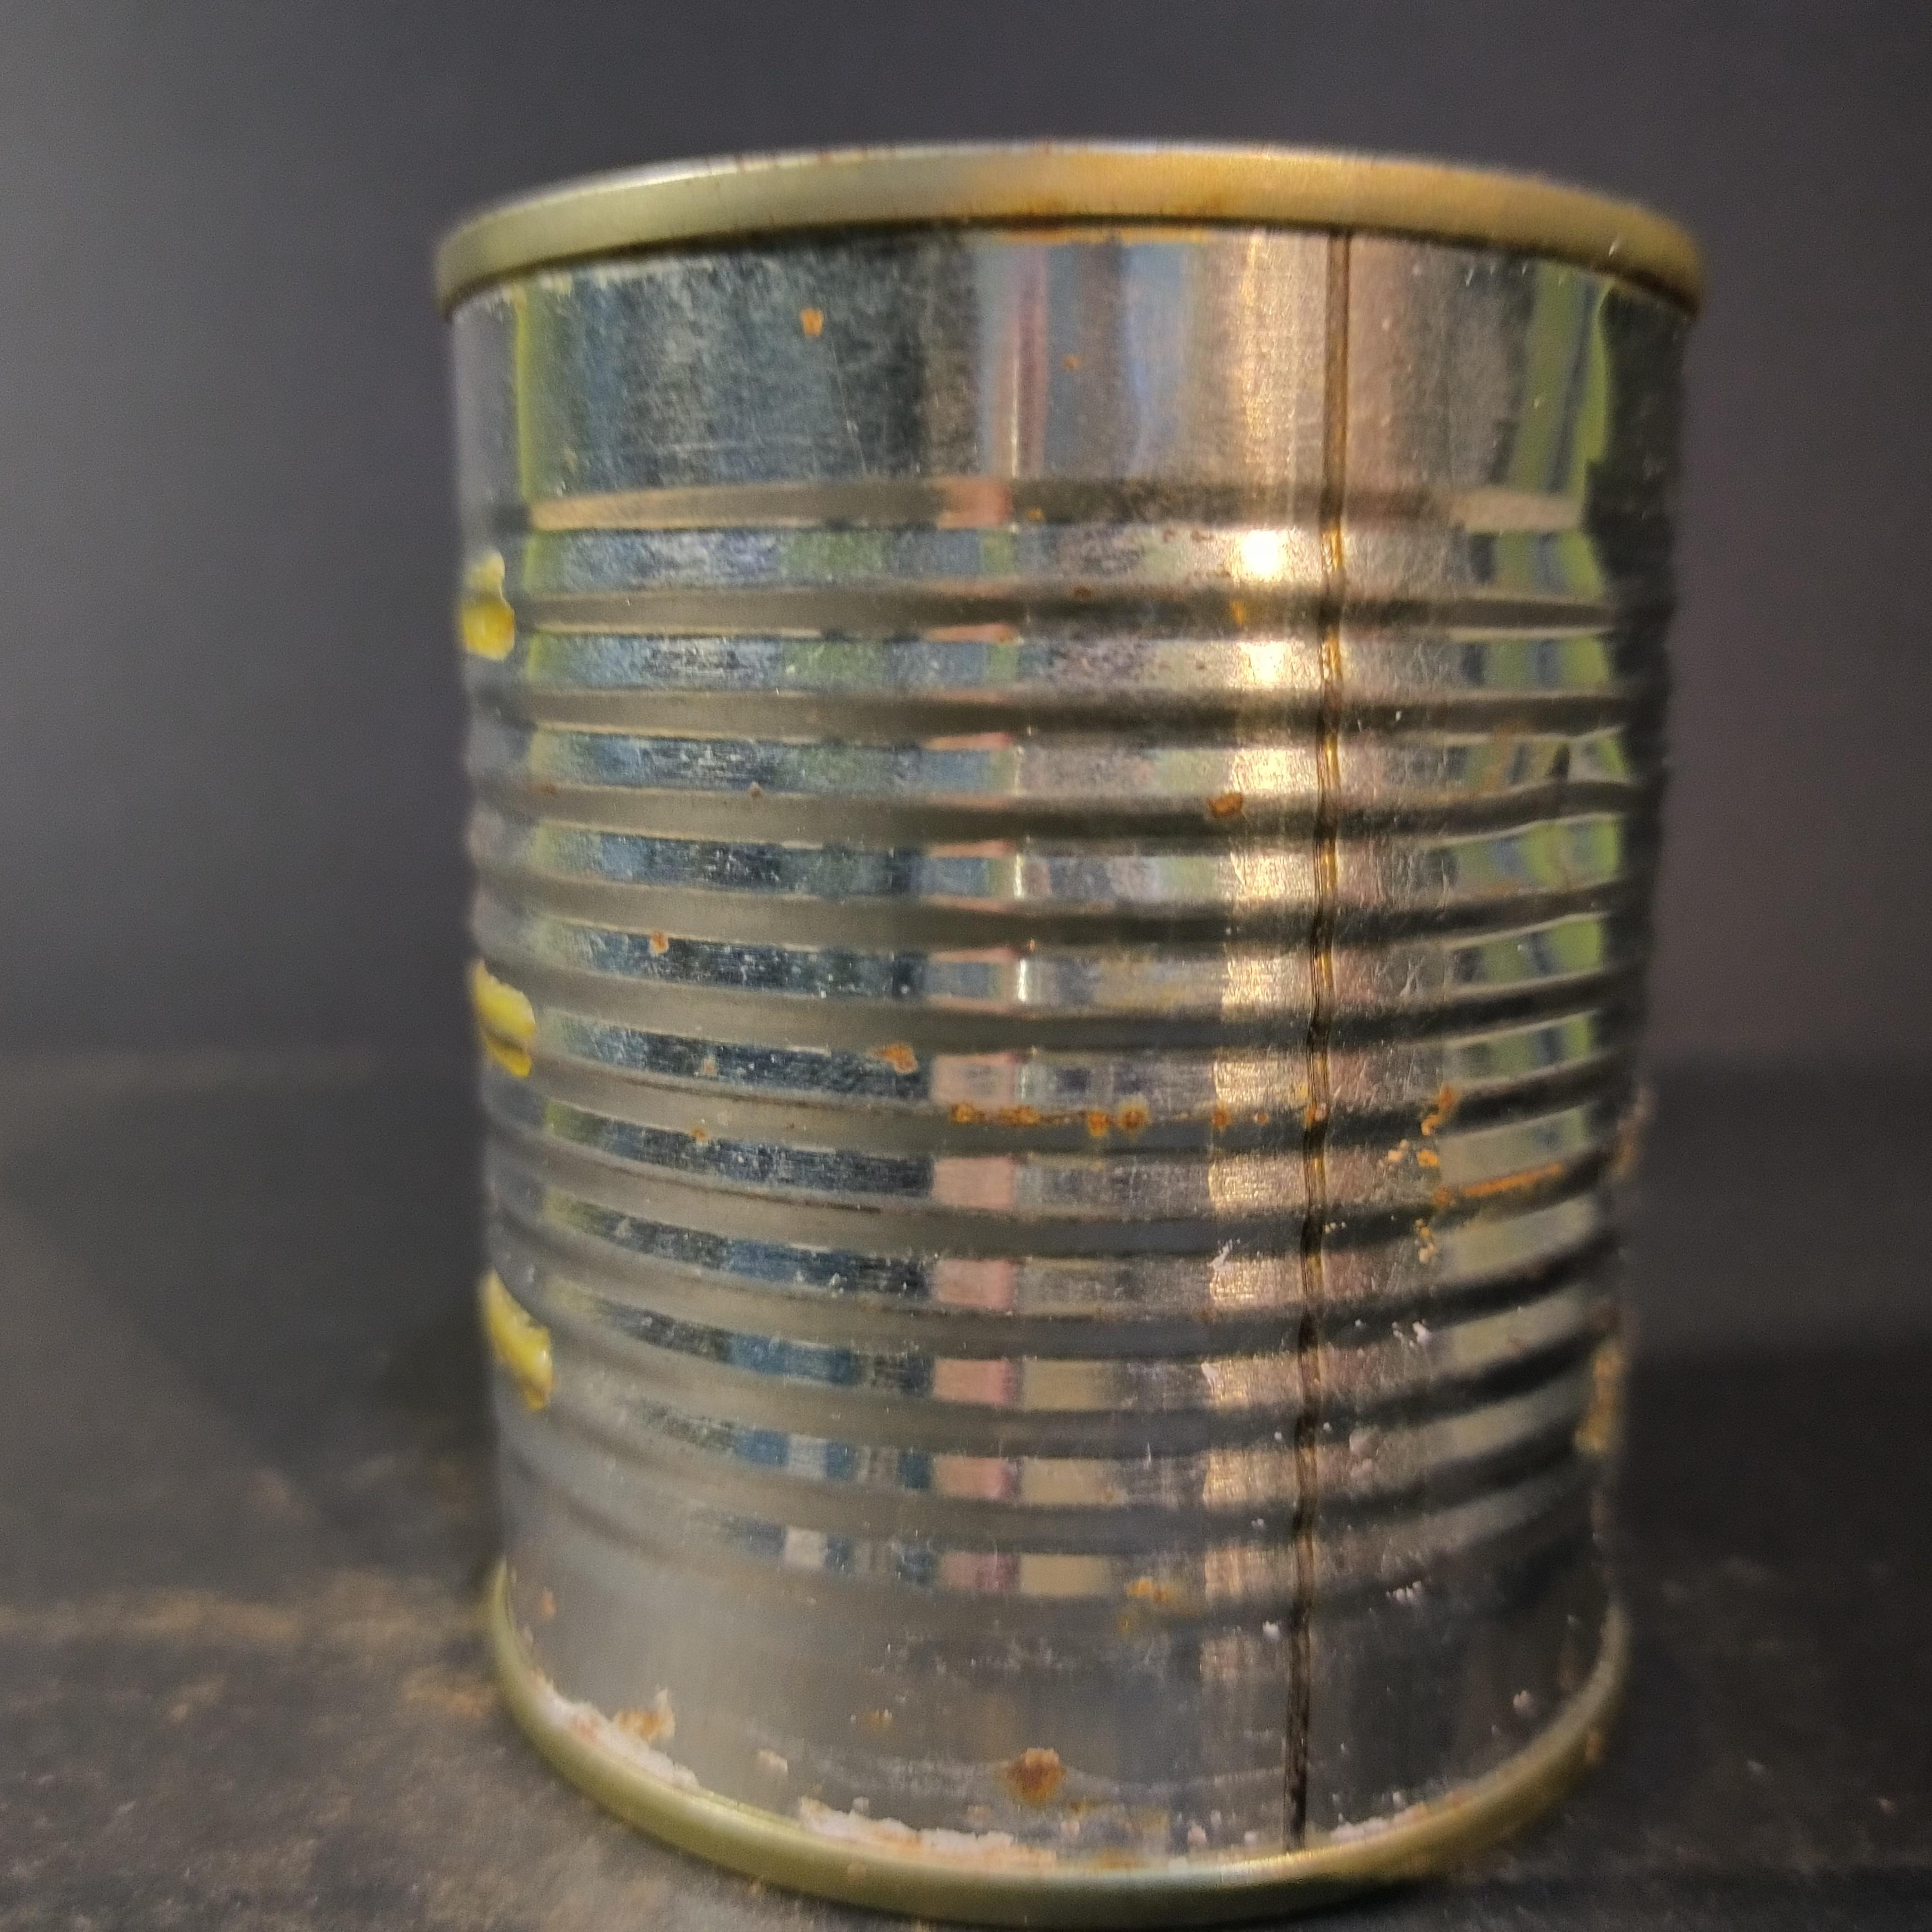Rusted: (409, 113, 1716, 1928)
